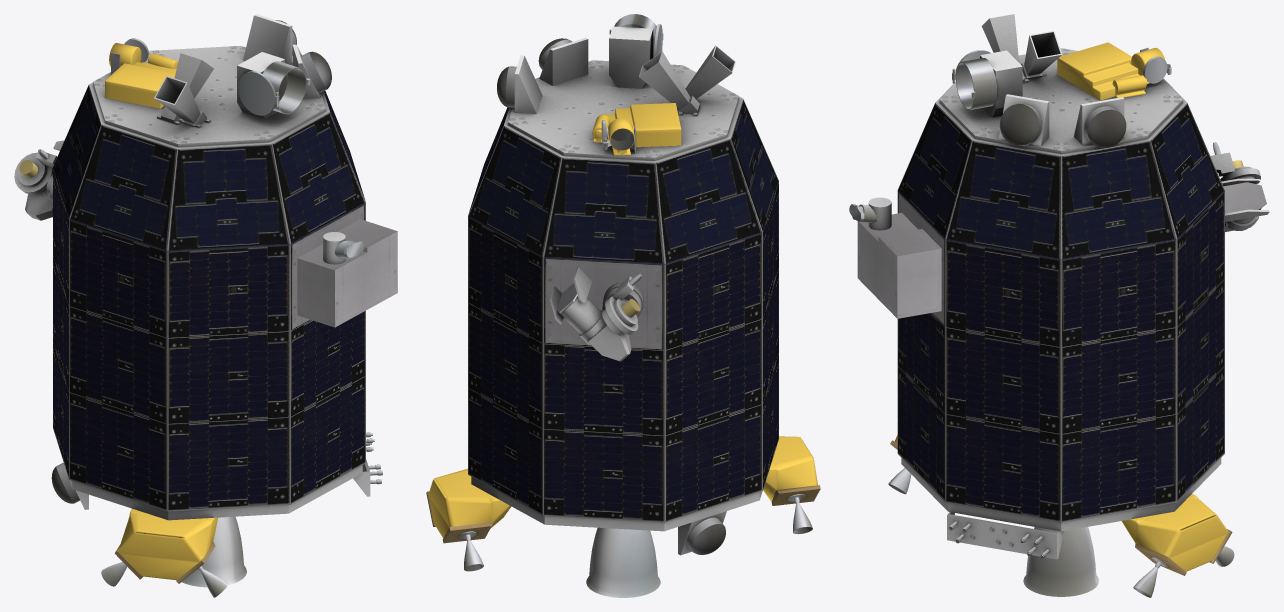
Rendered from ladee.gltf.
3 views of the same model, side by side, from view 1: azimuth 30°, elevation 25°; view 2: azimuth 150°, elevation 25°; view 3: azimuth 270°, elevation 25° (orthographic).
Parts seen in each view (by area): view 1: shiny_panel, AO_parts_01, tex_01, foil_gold, AO_parts_02; view 2: shiny_panel, AO_parts_01, tex_01, foil_gold, AO_parts_02; view 3: shiny_panel, tex_01, AO_parts_01, foil_gold, AO_parts_02.
Part boxes in pixels (<box>): shiny_panel: <box>53,85,365,511</box>; AO_parts_01: <box>14,45,362,520</box>; tex_01: <box>19,20,397,597</box>; foil_gold: <box>105,43,217,580</box>; AO_parts_02: <box>75,14,370,583</box>; shiny_panel: <box>468,99,778,522</box>; AO_parts_01: <box>471,45,762,531</box>; tex_01: <box>458,14,812,597</box>; foil_gold: <box>428,103,817,537</box>; AO_parts_02: <box>426,26,820,555</box>; shiny_panel: <box>897,103,1224,522</box>; tex_01: <box>849,47,1266,597</box>; AO_parts_01: <box>901,14,1269,531</box>; foil_gold: <box>895,42,1228,571</box>; AO_parts_02: <box>868,50,1232,575</box>.
Size of the model in its own units: 1.18 by 1.97 by 1.4.
7 materials, 5 textured.
